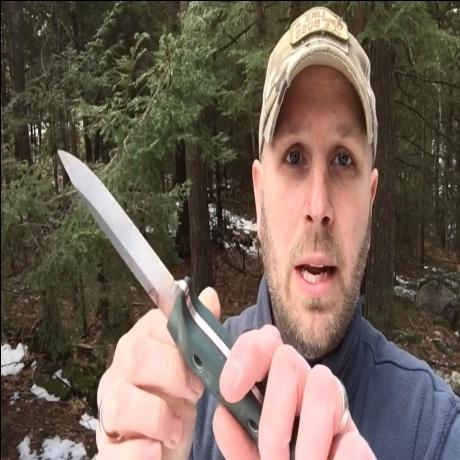1: (88, 0, 460, 460)
weapon: (55, 147, 200, 316)
